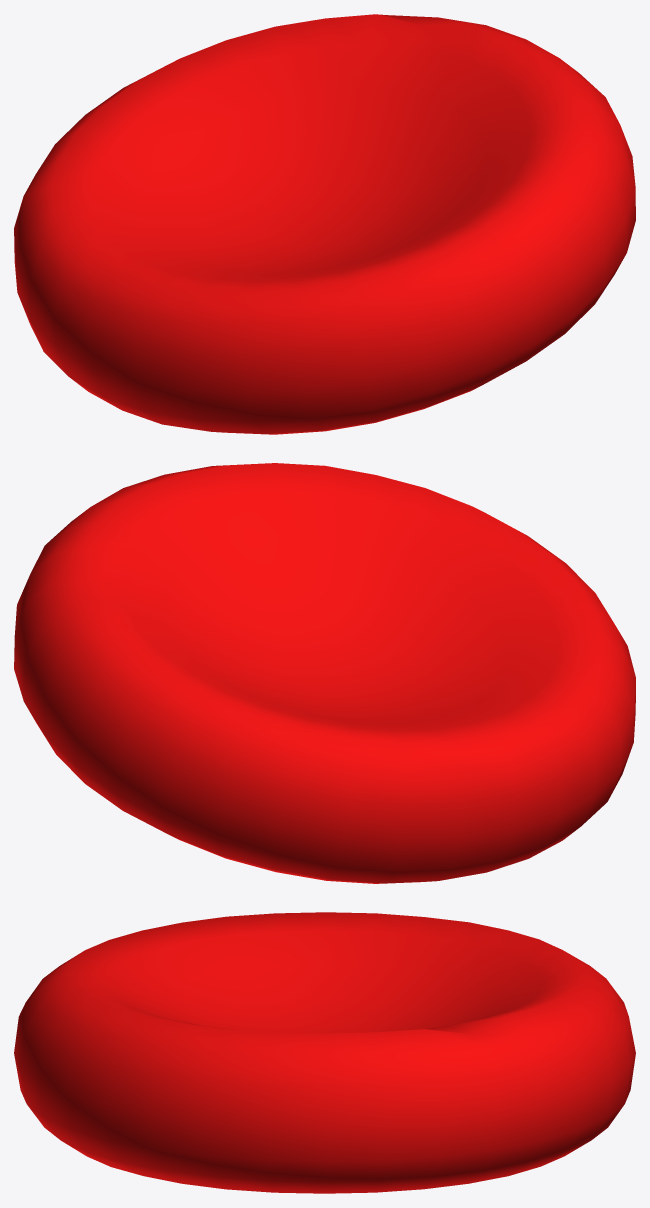
The model's file is Red Blood Cell.FBX.
The picture shows the model from 3 angles, top to bottom: view 1: azimuth 30°, elevation 25°; view 2: azimuth 150°, elevation 25°; view 3: azimuth 270°, elevation 25°; orthographic projection.
Visible parts, largest first — view 1: RBC_3; view 2: RBC_3; view 3: RBC_3.
Boxes of the visible parts, x1=… form: RBC_3: x1=14, y1=14, x2=635, y2=434; RBC_3: x1=14, y1=463, x2=635, y2=883; RBC_3: x1=14, y1=912, x2=635, y2=1193.
Size of the model in its own units: 59.33 by 25.43 by 60.
